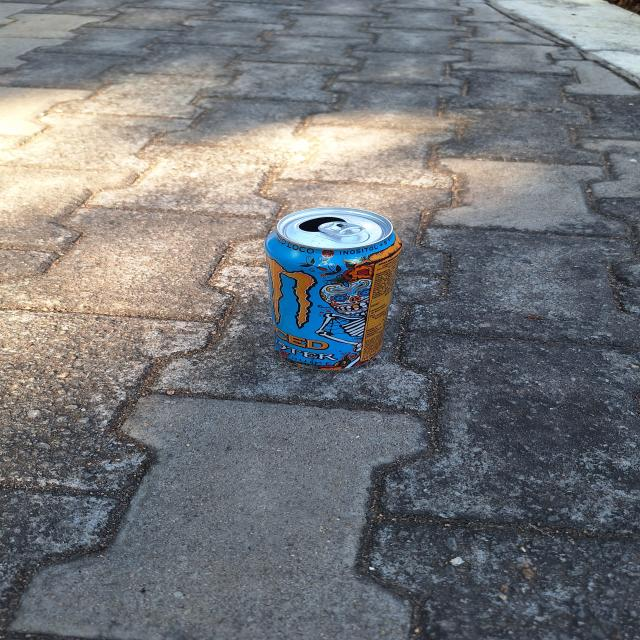Monster Mango Loco: (271, 214, 397, 367)
